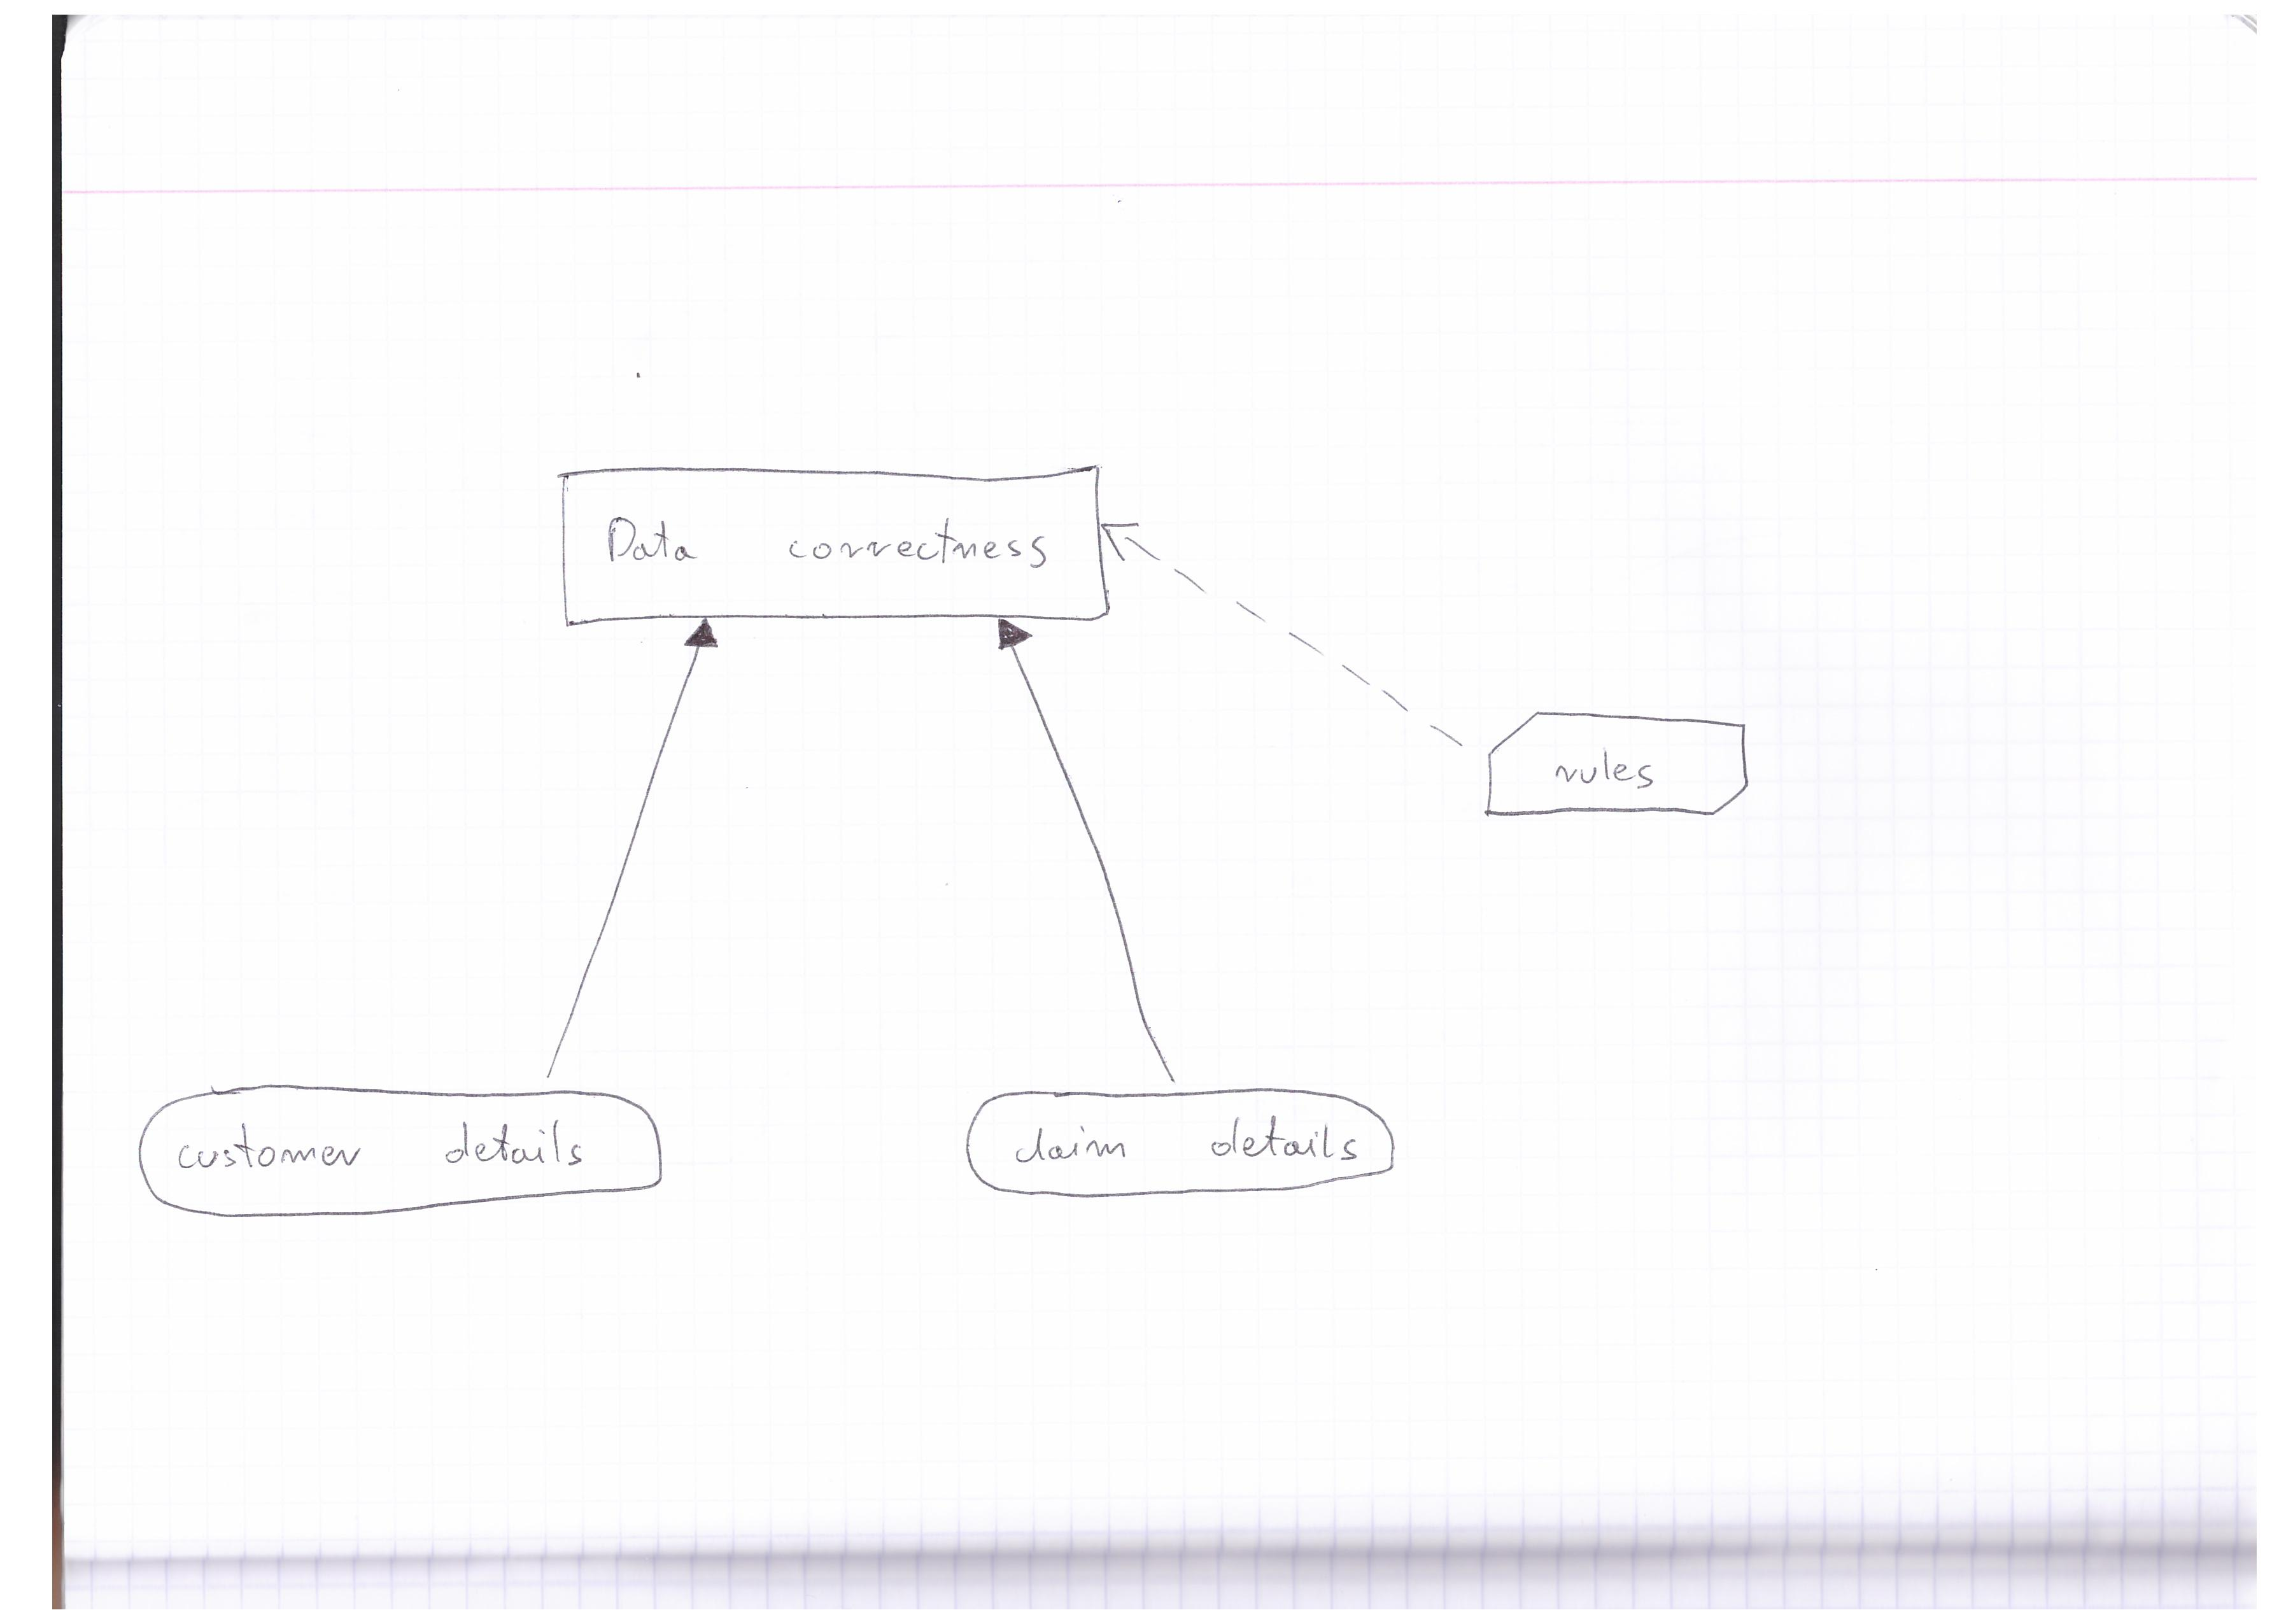arrow_information_requirement: (513, 615, 734, 1083), (975, 613, 1188, 1090)
arrow_knowledge_requirement: (1100, 506, 1480, 756)
node_decision: (548, 455, 1119, 629)
node_input_data: (127, 1076, 691, 1234), (951, 1079, 1430, 1216)
node_knowledge_model: (1478, 694, 1757, 840)
text: (587, 497, 1065, 587), (165, 1113, 594, 1183), (1002, 1104, 1365, 1172), (1536, 742, 1675, 794)
